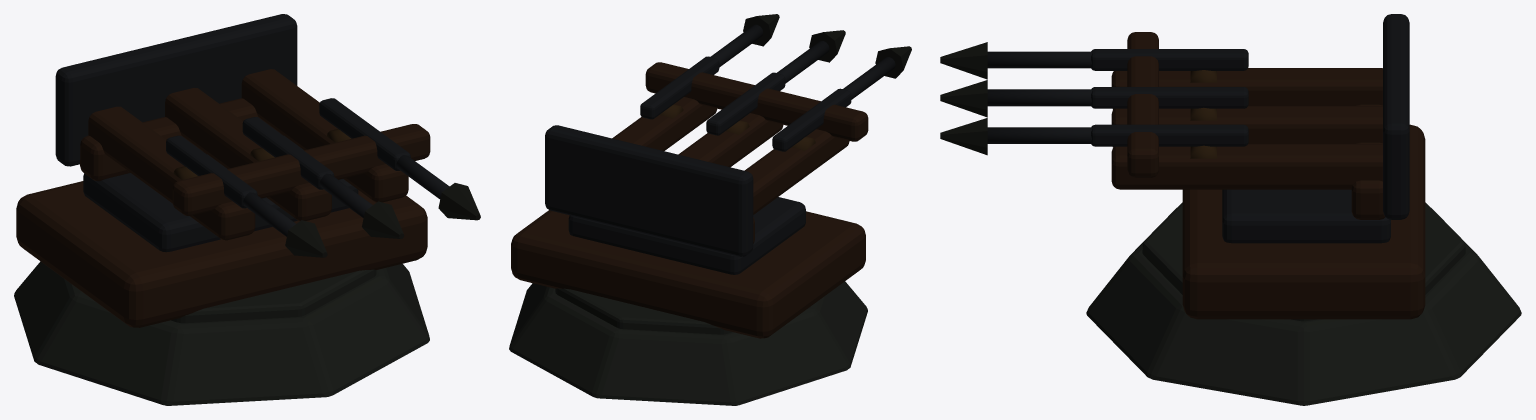
The model's file is TowerMulti1.obj.
3 renders of one model, left to right at view 1: azimuth 30°, elevation 25°; view 2: azimuth 150°, elevation 25°; view 3: azimuth 270°, elevation 25°, orthographic. The views are drawn at different scales.
Parts seen in each view (by area): view 1: rough_stone_plinth_lower_course, oak_firing_deck, iron_volley_shield, volley_bow_stock, volley_bow_stock.002, volley_bow_stock.001, iron_turntable, rough_stone_plinth_upper_course, volley_bow_limb, volley_bow_limb.002, oak_windlass_rail, volley_bow_limb.001 (+9 smaller); view 2: rough_stone_plinth_lower_course, oak_firing_deck, iron_volley_shield, iron_turntable, volley_bow_stock, rough_stone_plinth_upper_course, volley_bow_stock.001, volley_bow_stock.002, volley_bow_limb, volley_bow_limb.002, volley_bow_limb.001, volley_iron_guide.001 (+8 smaller); view 3: rough_stone_plinth_lower_course, oak_firing_deck, volley_bow_stock.002, iron_turntable, volley_bow_stock.001, volley_bow_stock, iron_volley_shield, rough_stone_plinth_upper_course, volley_iron_guide.002, volley_iron_guide, volley_iron_guide.001, iron_bolt (+9 smaller).
Part boxes in pixels (bbox=[...]): rough_stone_plinth_lower_course: bbox=[14, 261, 429, 405]; oak_firing_deck: bbox=[16, 181, 427, 327]; iron_volley_shield: bbox=[55, 14, 297, 166]; volley_bow_stock: bbox=[88, 106, 255, 240]; volley_bow_stock.002: bbox=[241, 69, 408, 202]; volley_bow_stock.001: bbox=[165, 87, 331, 220]; iron_turntable: bbox=[83, 135, 358, 252]; rough_stone_plinth_upper_course: bbox=[171, 269, 376, 323]; volley_bow_limb: bbox=[172, 161, 273, 215]; volley_bow_limb.002: bbox=[332, 124, 430, 177]; oak_windlass_rail: bbox=[80, 98, 283, 181]; volley_bow_limb.001: bbox=[257, 143, 349, 195]; rough_stone_plinth_lower_course: bbox=[509, 281, 867, 405]; oak_firing_deck: bbox=[511, 210, 865, 338]; iron_volley_shield: bbox=[545, 125, 753, 256]; iron_turntable: bbox=[568, 197, 805, 274]; volley_bow_stock: bbox=[744, 129, 849, 214]; rough_stone_plinth_upper_course: bbox=[555, 288, 732, 334]; volley_bow_stock.001: bbox=[678, 113, 783, 167]; volley_bow_stock.002: bbox=[612, 97, 717, 150]; volley_bow_limb: bbox=[783, 95, 868, 141]; volley_bow_limb.002: bbox=[645, 62, 729, 109]; volley_bow_limb.001: bbox=[715, 78, 796, 125]; volley_iron_guide.001: bbox=[706, 72, 785, 135]; rough_stone_plinth_lower_course: bbox=[1086, 208, 1521, 405]; oak_firing_deck: bbox=[1182, 124, 1425, 319]; volley_bow_stock.002: bbox=[1111, 144, 1382, 189]; iron_turntable: bbox=[1222, 189, 1390, 243]; volley_bow_stock.001: bbox=[1111, 106, 1382, 147]; volley_bow_stock: bbox=[1111, 68, 1382, 109]; iron_volley_shield: bbox=[1383, 14, 1409, 219]; rough_stone_plinth_upper_course: bbox=[1142, 202, 1465, 321]; volley_iron_guide.002: bbox=[1091, 124, 1248, 146]; volley_iron_guide: bbox=[1091, 49, 1248, 70]; volley_iron_guide.001: bbox=[1091, 87, 1248, 108]; iron_bolt: bbox=[987, 51, 1092, 68].
Size of the model in its own units: 1.65 by 1.03 by 2.21.
